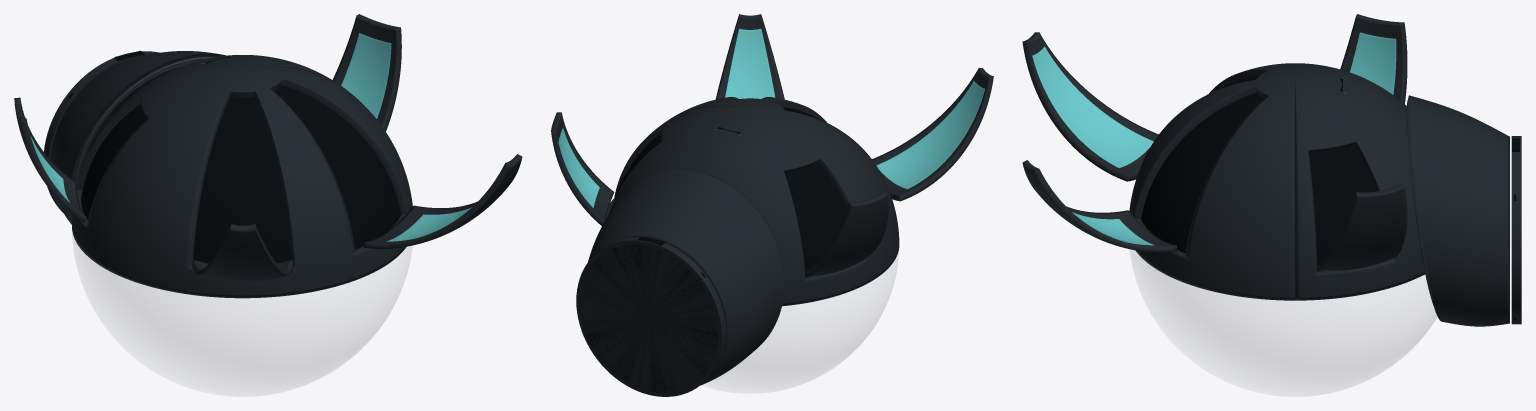
File: nono-detached-source.glb
3 renders of one model, left to right at view 1: azimuth 30°, elevation 25°; view 2: azimuth 150°, elevation 25°; view 3: azimuth 270°, elevation 25°, orthographic. The views are drawn at different scales.
Parts seen in each view (by area): view 1: RearHousing100, TransparentDome100, UpperWingLeftPocketCap, dock (×3), UpperWingRightPocketCap, UpperWingLeft, UpperWingRight, LowerWingInlayRight, LowerWingRight, LowerWingLeftPocketCap, LowerWingLeft, UpperWingInlayRight (+1 smaller); view 2: dock (×3), RearHousing100, TransparentDome100, LowerWingLeftPocketCap, UpperWingInlayLeft, LowerWingLeft, UpperWingLeft, UpperWingInlayRight, LowerWingRight, UpperWingRight, LowerWingInlayRight; view 3: RearHousing100, TransparentDome100, dock (×2), UpperWingRightPocketCap, LowerWingRight, UpperWingInlayLeft, LowerWingRightPocketCap, UpperWingLeft, UpperWingRight, LowerWingLeft, LowerWingInlayLeft, UpperWingInlayRight.
Part boxes in pixels (bbox=[...]): RearHousing100: bbox=[72, 55, 412, 298]; TransparentDome100: bbox=[72, 232, 412, 396]; UpperWingLeftPocketCap: bbox=[193, 97, 292, 262]; dock (×3): bbox=[44, 51, 226, 224]; UpperWingRightPocketCap: bbox=[274, 85, 401, 249]; UpperWingLeft: bbox=[191, 224, 294, 281]; UpperWingRight: bbox=[364, 154, 522, 248]; LowerWingInlayRight: bbox=[341, 33, 391, 118]; LowerWingRight: bbox=[332, 14, 401, 131]; LowerWingLeftPocketCap: bbox=[81, 104, 147, 219]; LowerWingLeft: bbox=[14, 97, 86, 221]; UpperWingInlayRight: bbox=[387, 207, 471, 241]; dock (×3): bbox=[576, 168, 784, 396]; RearHousing100: bbox=[605, 97, 899, 306]; TransparentDome100: bbox=[702, 252, 898, 393]; LowerWingLeftPocketCap: bbox=[785, 163, 846, 277]; UpperWingInlayLeft: bbox=[876, 81, 984, 189]; LowerWingLeft: bbox=[807, 191, 888, 276]; UpperWingLeft: bbox=[872, 68, 993, 201]; UpperWingInlayRight: bbox=[725, 28, 775, 98]; LowerWingRight: bbox=[551, 112, 614, 225]; UpperWingRight: bbox=[715, 14, 784, 99]; LowerWingInlayRight: bbox=[558, 128, 599, 207]; RearHousing100: bbox=[1129, 63, 1424, 300]; TransparentDome100: bbox=[1130, 249, 1436, 396]; dock (×2): bbox=[1408, 95, 1521, 326]; UpperWingRightPocketCap: bbox=[1141, 92, 1264, 253]; LowerWingRight: bbox=[1319, 184, 1407, 270]; UpperWingInlayLeft: bbox=[1032, 46, 1153, 167]; LowerWingRightPocketCap: bbox=[1309, 145, 1375, 271]; UpperWingLeft: bbox=[1022, 32, 1158, 181]; UpperWingRight: bbox=[1022, 160, 1177, 252]; LowerWingLeft: bbox=[1340, 14, 1407, 103]; LowerWingInlayLeft: bbox=[1350, 32, 1396, 94]; UpperWingInlayRight: bbox=[1072, 212, 1154, 245].
Bounding box in the file's own units: 0.1282 × 0.1 × 0.1495.
